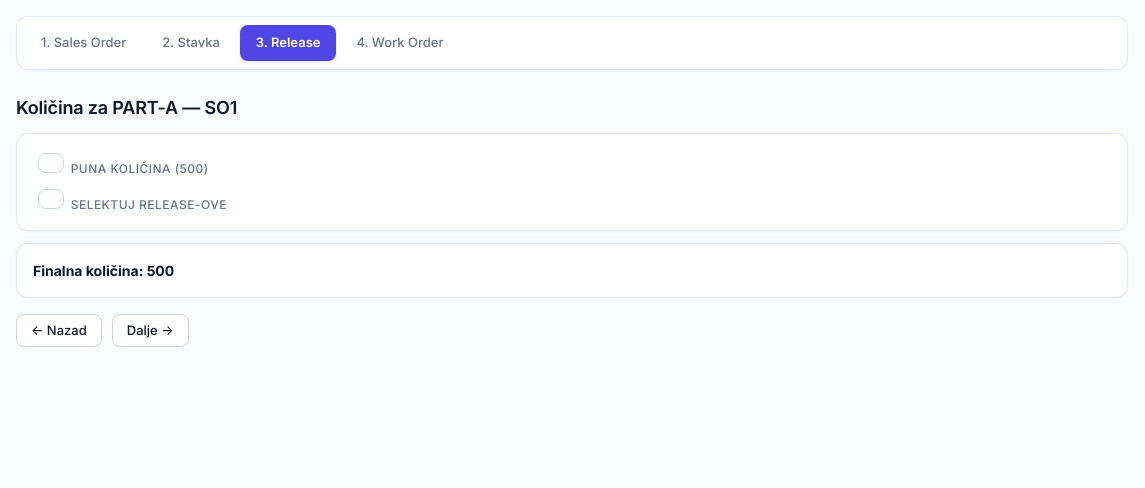
Test: ReleasesPage › Dalje is disabled when no releases checked in release mode
Click the radio button labelled "Selektuj release-ove": (51, 198) top-left (38, 188), bottom-right (64, 208)
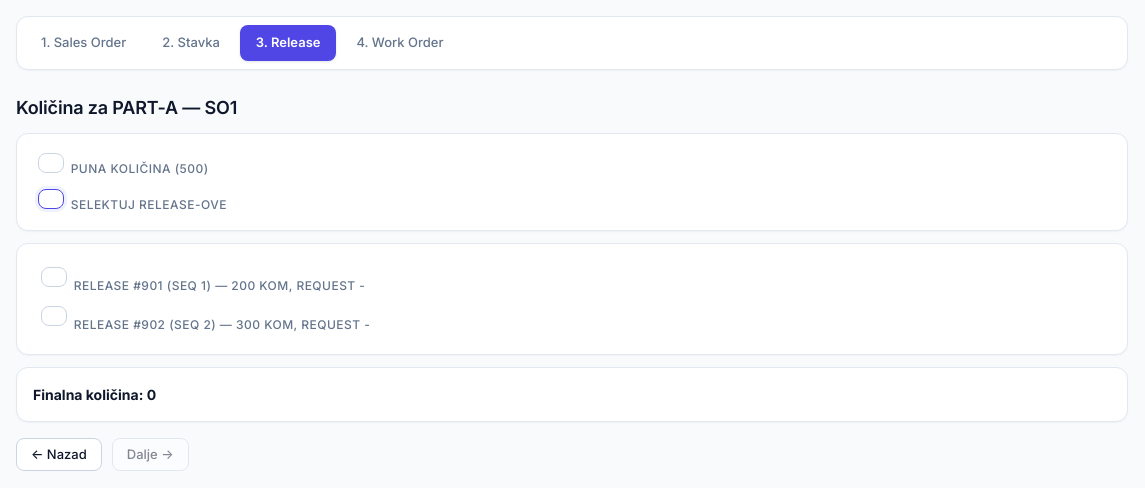
Expected: the button "Dalje →" is disabled, top-left (112, 438), bottom-right (189, 471)
